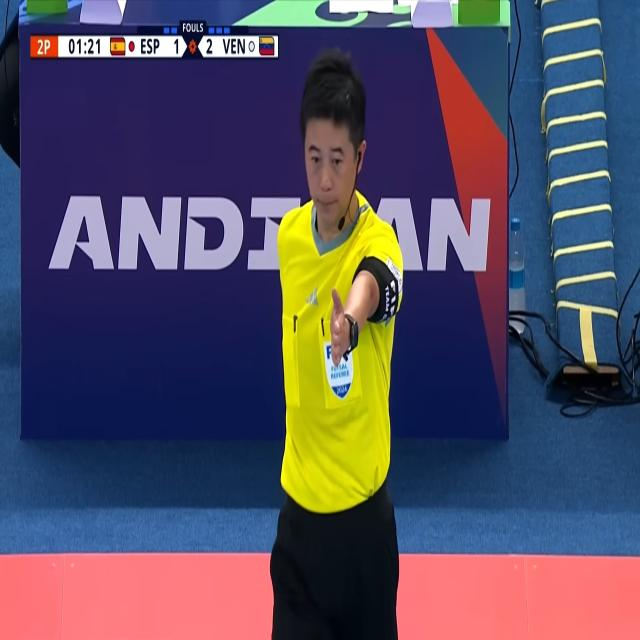Referee: (256, 49, 411, 640)
